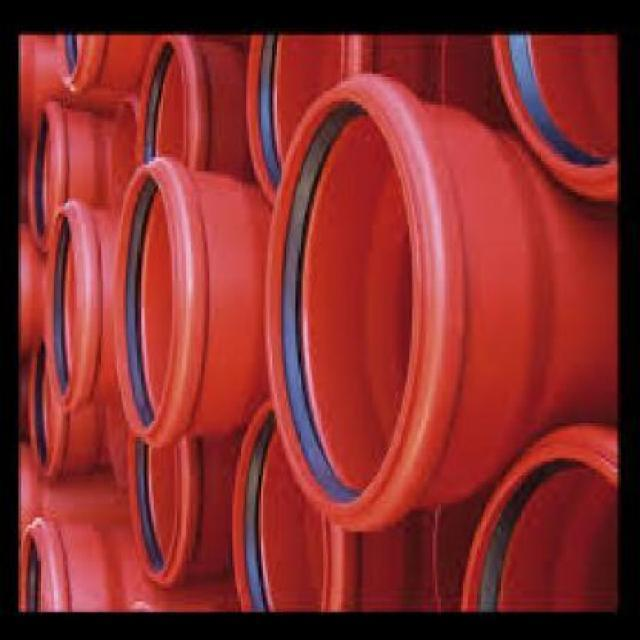pipe: (260, 75, 440, 534), (456, 418, 622, 617), (227, 394, 349, 614), (486, 38, 622, 203), (114, 158, 187, 451), (251, 35, 348, 222), (41, 194, 94, 411), (126, 429, 195, 589), (136, 39, 198, 167), (19, 514, 78, 614), (52, 30, 108, 96)
